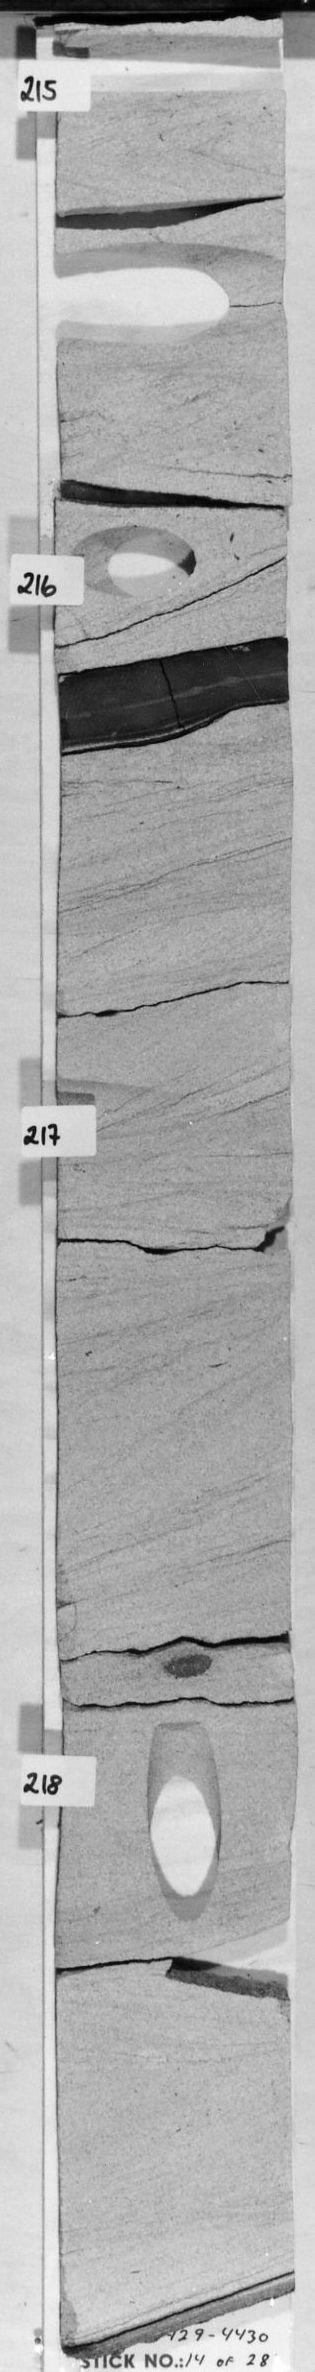hplug: (55, 27, 282, 107), (70, 528, 204, 598)
scal: (55, 241, 285, 359)
vplug: (136, 1717, 242, 1935)
